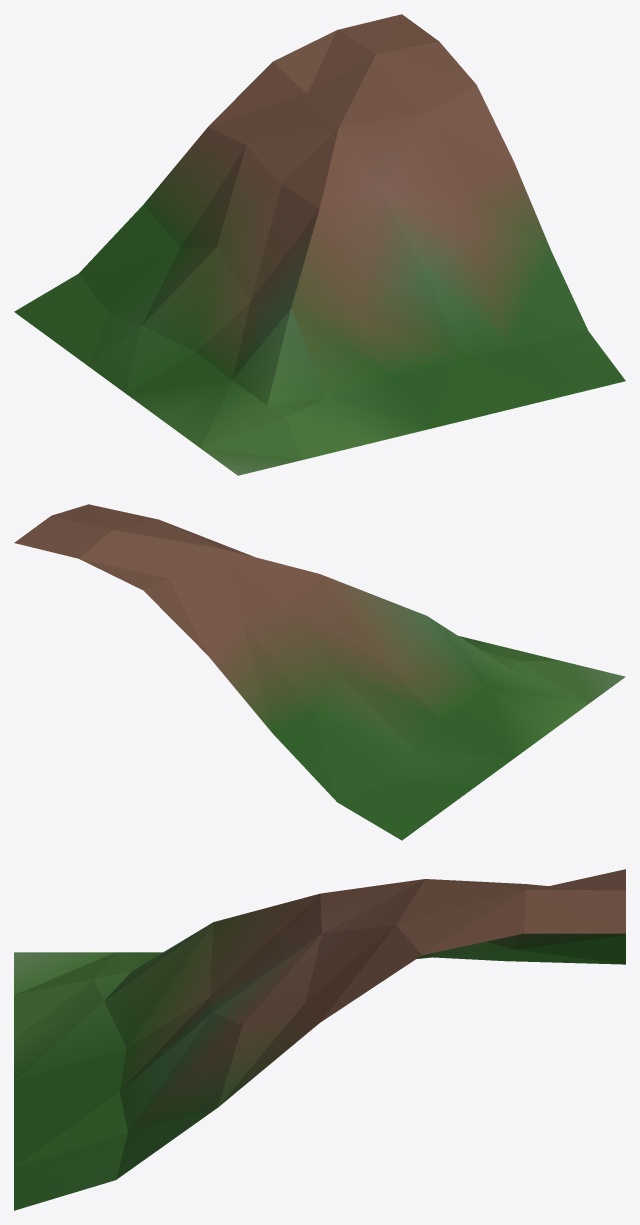
Rendered from SlopeOB270.fbx.
3 renders of one model, top to bottom at view 1: azimuth 30°, elevation 25°; view 2: azimuth 150°, elevation 25°; view 3: azimuth 270°, elevation 25°, orthographic. The views are drawn at different scales.
Visible parts, largest first — view 1: Cliff.014; view 2: Cliff.014; view 3: Cliff.014.
Boxes of the visible parts, <box> form: Cliff.014: <box>14,14,625,475</box>; Cliff.014: <box>14,504,625,840</box>; Cliff.014: <box>14,869,625,1210</box>.
Size of the model in its own units: 200 by 101 by 200.
